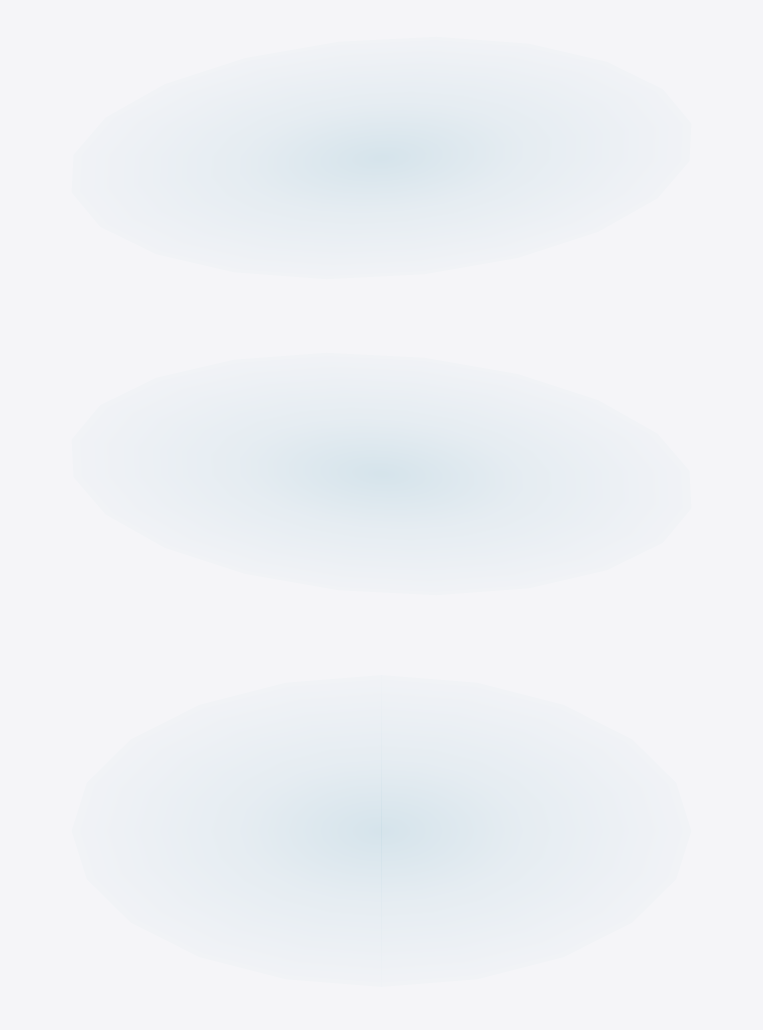
Rendered from crystallight_pool.glb.
3 views of the same model, one above another, from view 1: azimuth 30°, elevation 25°; view 2: azimuth 150°, elevation 25°; view 3: azimuth 270°, elevation 25° (orthographic). The views are drawn at different scales.
Visible parts, largest first — view 1: Weicher Lichtschein.001; view 2: Weicher Lichtschein.001; view 3: Weicher Lichtschein.001.
Boxes of the visible parts, box(x1,y1,x2,y2) form: Weicher Lichtschein.001: box(279, 118, 483, 197); Weicher Lichtschein.001: box(279, 434, 483, 513); Weicher Lichtschein.001: box(279, 758, 483, 903).
Size of the model in its own units: 2.84 by 0 by 2.39.
